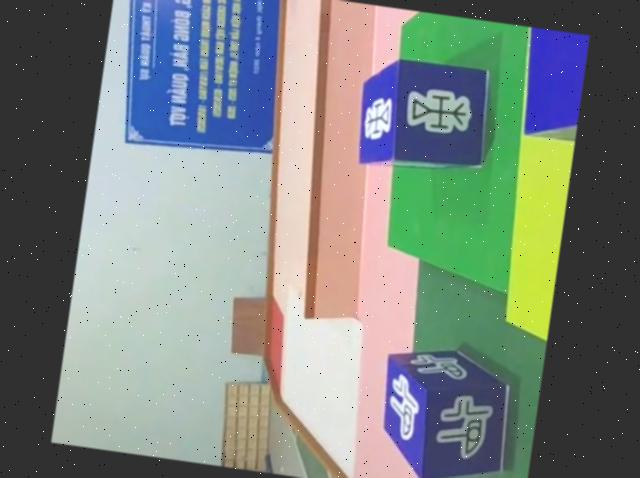R2 Real Blue: (373, 342, 520, 478), (352, 53, 498, 182)
